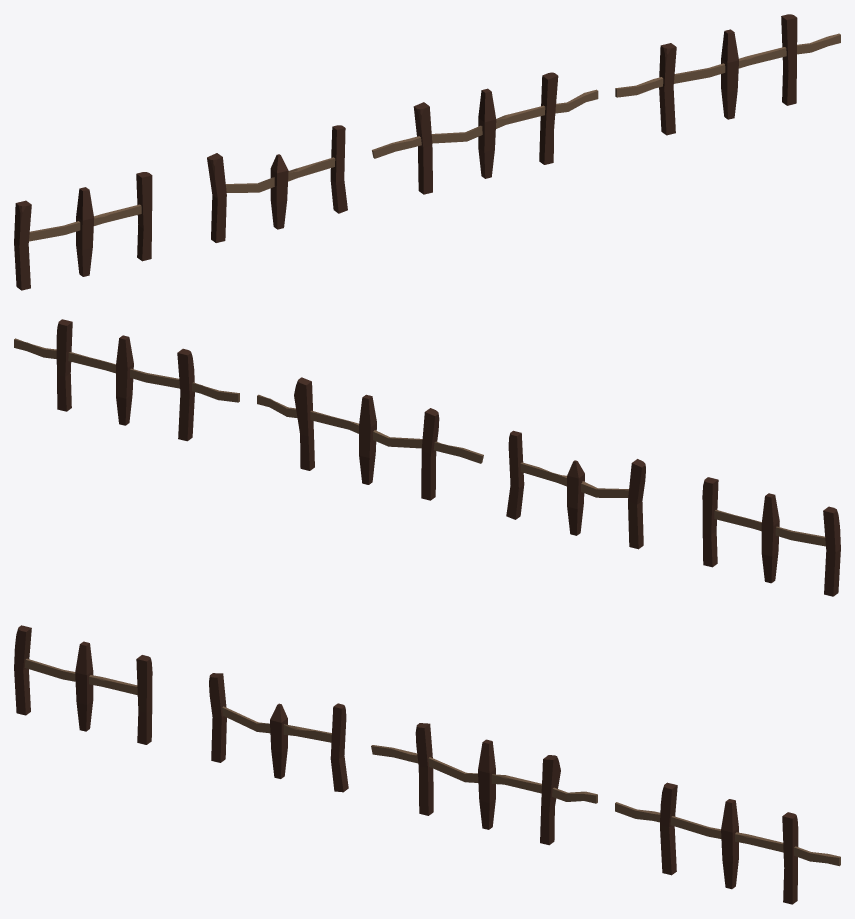
The model's file is WoodFenceCollection.fbx.
The picture shows the model from 3 angles, top to bottom: view 1: azimuth 30°, elevation 25°; view 2: azimuth 150°, elevation 25°; view 3: azimuth 330°, elevation 25°; orthographic projection.
Visible parts, largest first — view 1: Wood_fence_outer_v1, Wood_fence_outer_v2, Wood_fence_inner_v1, Wood_fence_inner_v2; view 2: Wood_fence_outer_v1, Wood_fence_outer_v2, Wood_fence_inner_v1, Wood_fence_inner_v2; view 3: Wood_fence_outer_v1, Wood_fence_outer_v2, Wood_fence_inner_v1, Wood_fence_inner_v2.
Boxes of the visible parts, x1,y1,x2,y2 form: Wood_fence_outer_v1: (372,72,598,194); Wood_fence_outer_v2: (615,14,840,135); Wood_fence_inner_v1: (14,172,152,290); Wood_fence_inner_v2: (207,125,347,242); Wood_fence_outer_v1: (257,377,483,500); Wood_fence_outer_v2: (14,319,239,441); Wood_fence_inner_v1: (702,477,840,596); Wood_fence_inner_v2: (506,430,645,549); Wood_fence_outer_v1: (371,723,597,845); Wood_fence_outer_v2: (615,782,840,904); Wood_fence_inner_v1: (14,625,152,744); Wood_fence_inner_v2: (209,673,348,792).
Size of the model in its own units: 3894 by 57.26 by 395.
